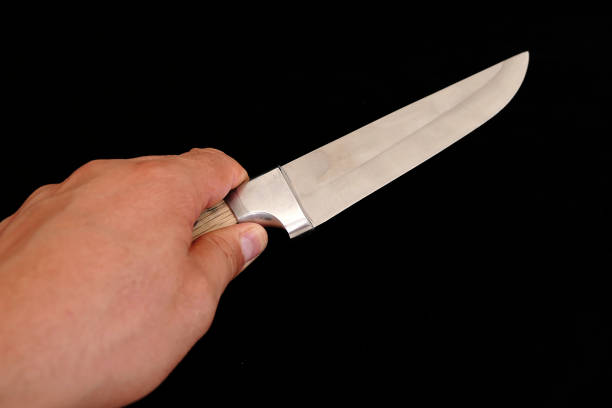knife: (187, 51, 532, 242)
